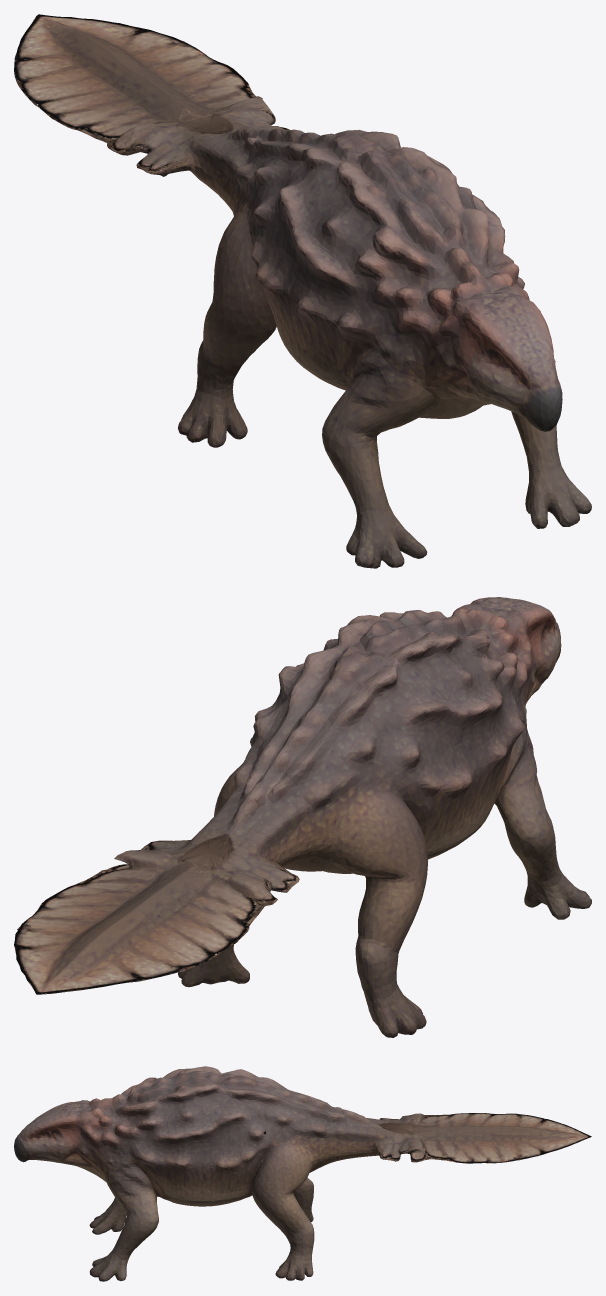
3 renders of one model, top to bottom at view 1: azimuth 30°, elevation 25°; view 2: azimuth 150°, elevation 25°; view 3: azimuth 270°, elevation 25°, orthographic. The views are drawn at different scales.
Visible parts, largest first — view 1: geometry_0; view 2: geometry_0, STEGO_ADDITIVE_UPPER_SKIN; view 3: geometry_0.
Part boxes in pixels (x1=…): geometry_0: x1=14, y1=14, x2=591, y2=568; geometry_0: x1=14, y1=597, x2=591, y2=1037; STEGO_ADDITIVE_UPPER_SKIN: x1=182, y1=841, x2=225, y2=866; geometry_0: x1=14, y1=1066, x2=591, y2=1281.
Size of the model in its own units: 0.5312 by 0.6793 by 2.
2 materials, 1 textured.
